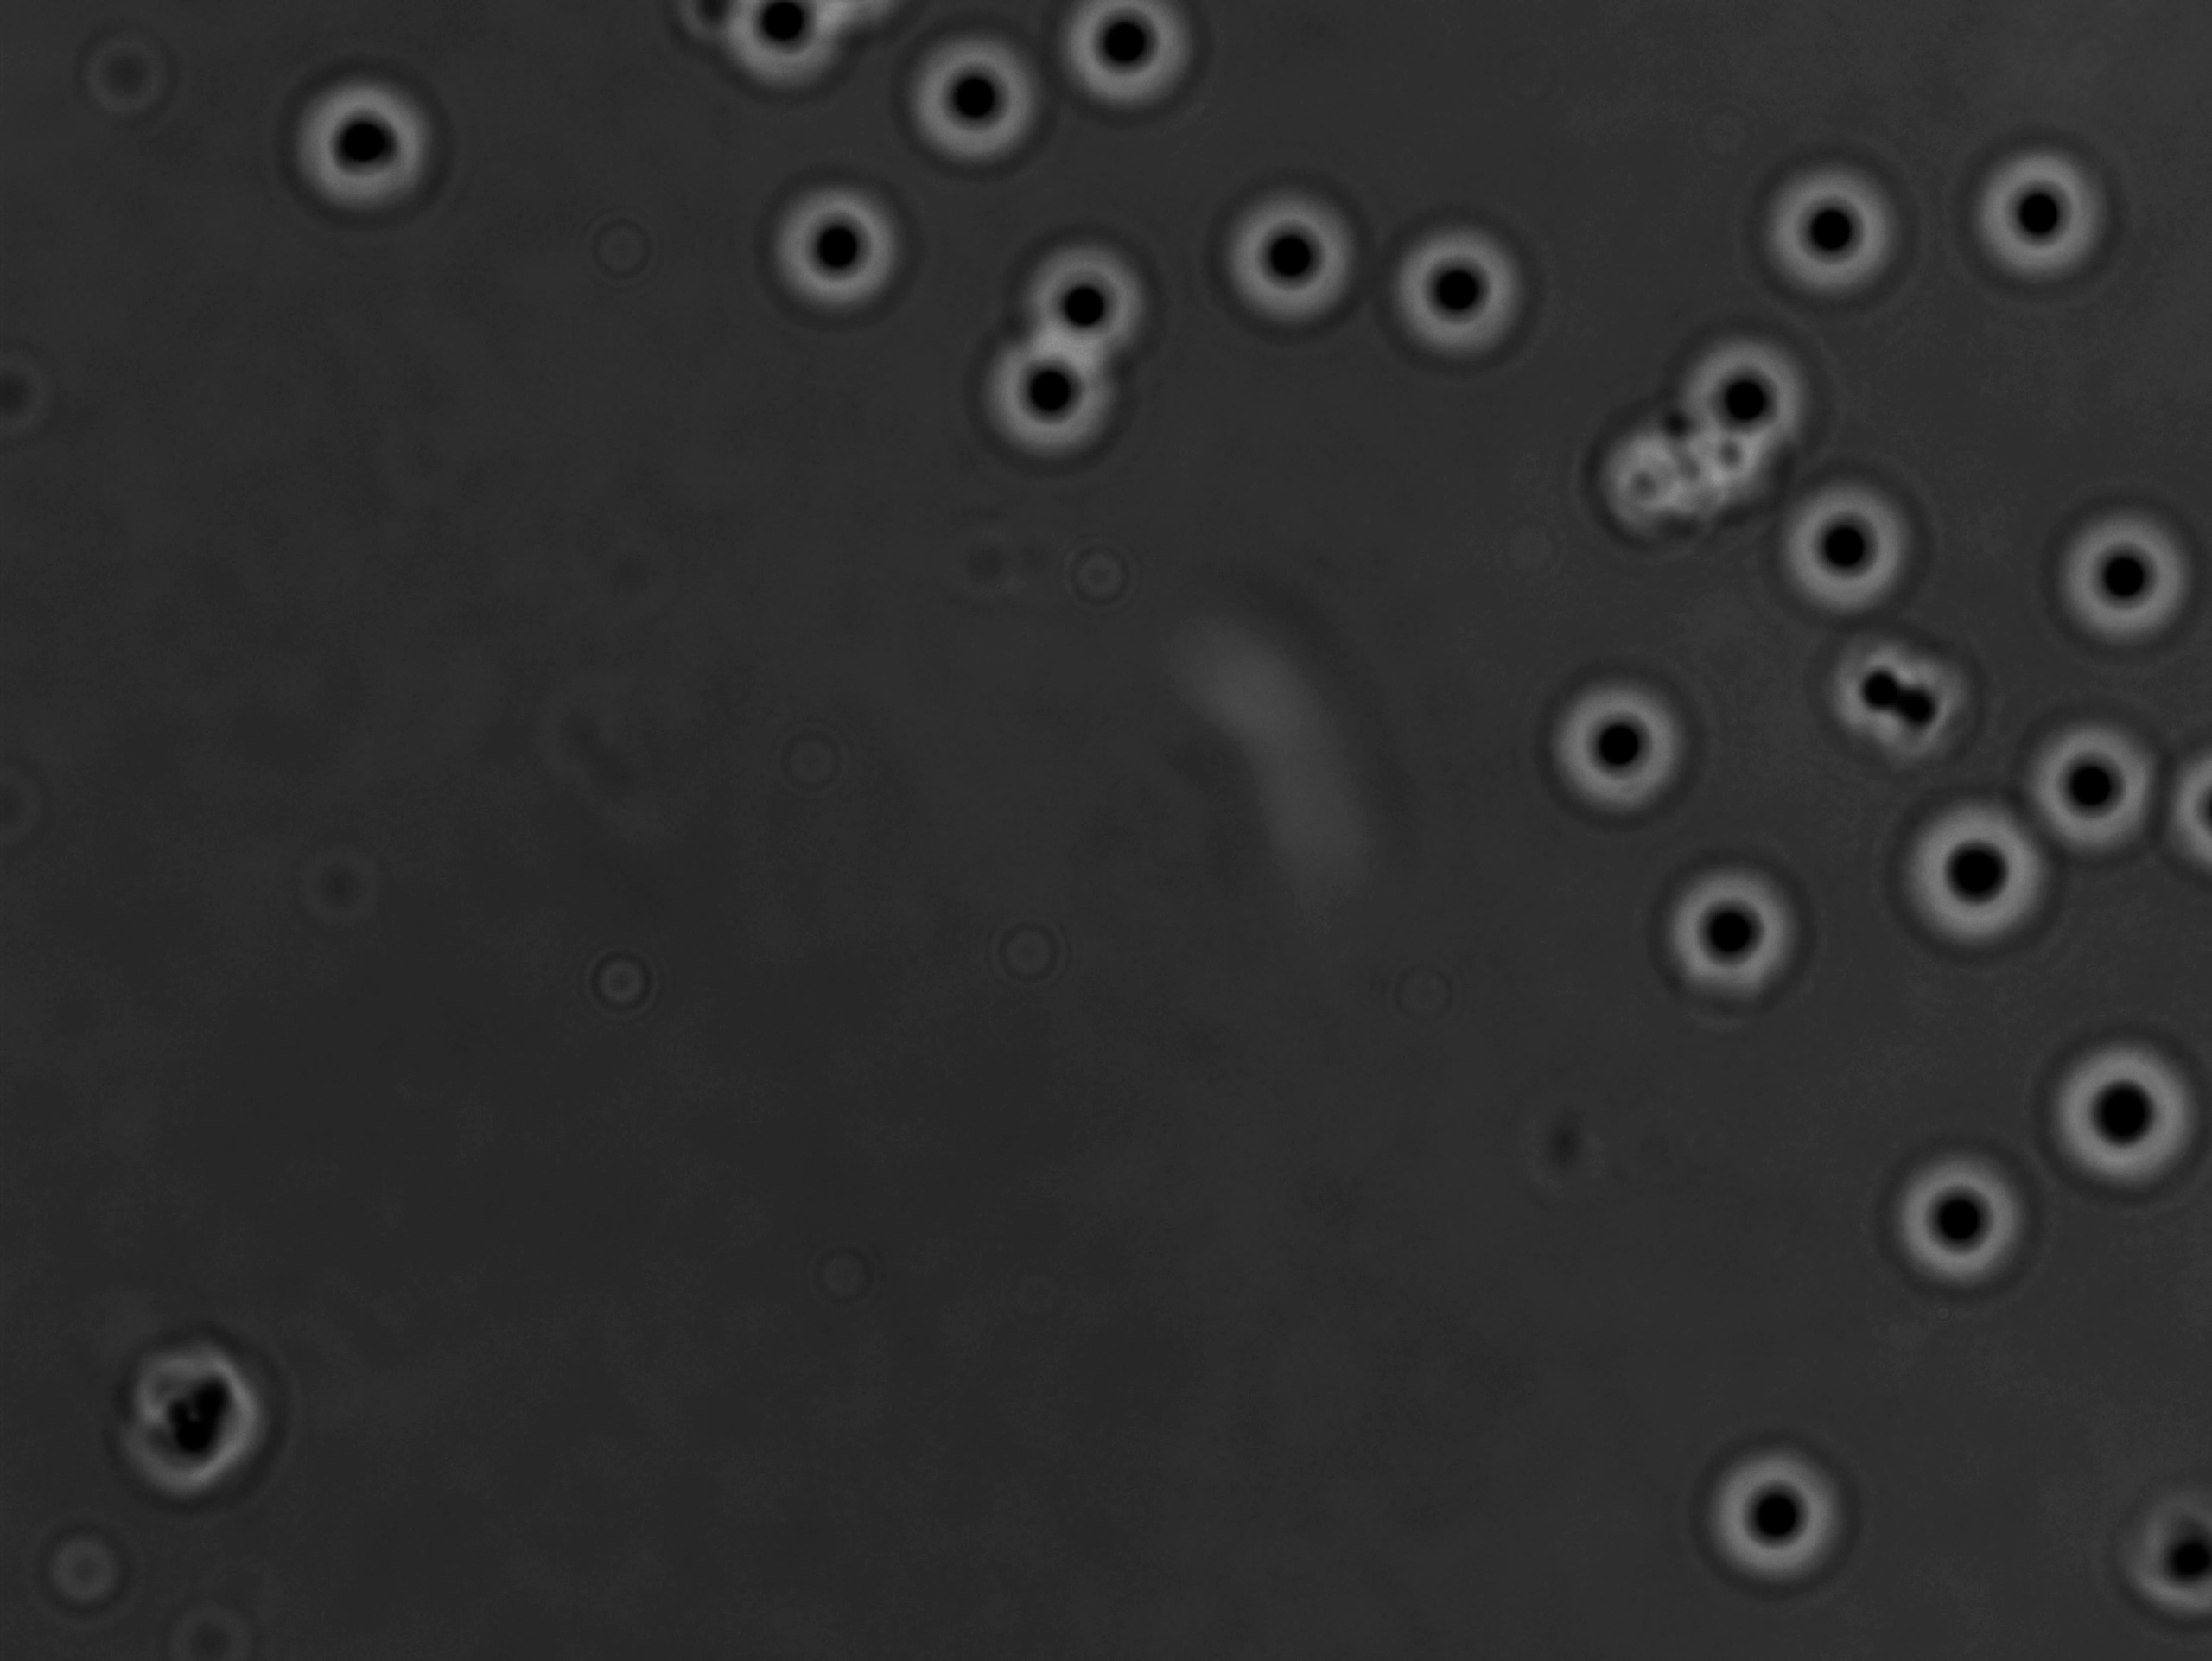depth:-40: (1856, 1113, 2045, 1312), (1697, 1429, 1903, 1605), (1952, 117, 2135, 302), (1895, 780, 2074, 968), (1532, 668, 1724, 841), (1204, 173, 1387, 349), (2034, 1033, 2212, 1213), (1744, 148, 1931, 314), (1652, 855, 1839, 1021), (1361, 229, 1547, 393), (270, 63, 448, 229), (2027, 483, 2202, 649), (1671, 297, 1835, 471), (1783, 471, 1954, 630), (755, 162, 912, 330), (993, 227, 1155, 384), (2010, 726, 2168, 878), (958, 338, 1122, 483), (893, 24, 1052, 173)
